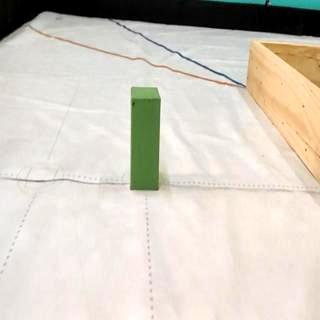greenbox: (128, 84, 160, 192)
